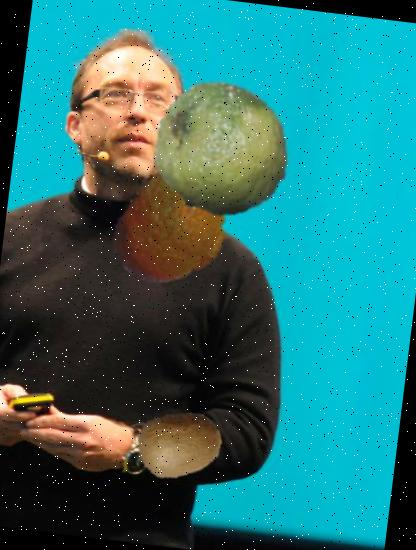Kiwi: (131, 397, 226, 492)
Limes: (146, 74, 298, 227)
Mandarine: (104, 158, 242, 298)
